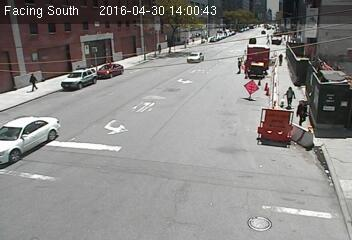neg: (175, 51, 190, 71), (229, 119, 243, 137), (157, 79, 169, 95), (148, 114, 156, 124), (107, 66, 114, 75), (87, 83, 94, 92), (276, 130, 283, 139), (192, 106, 198, 114), (111, 107, 116, 114), (233, 12, 237, 17), (219, 34, 223, 39)
pos: (293, 98, 313, 124), (279, 84, 299, 110), (24, 68, 41, 91), (234, 54, 248, 72), (275, 49, 286, 64), (155, 41, 163, 53), (282, 32, 288, 41), (266, 37, 272, 45)
